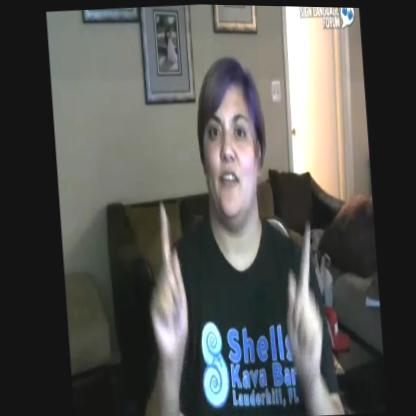NiceToMeetYou: (138, 180, 330, 403)
